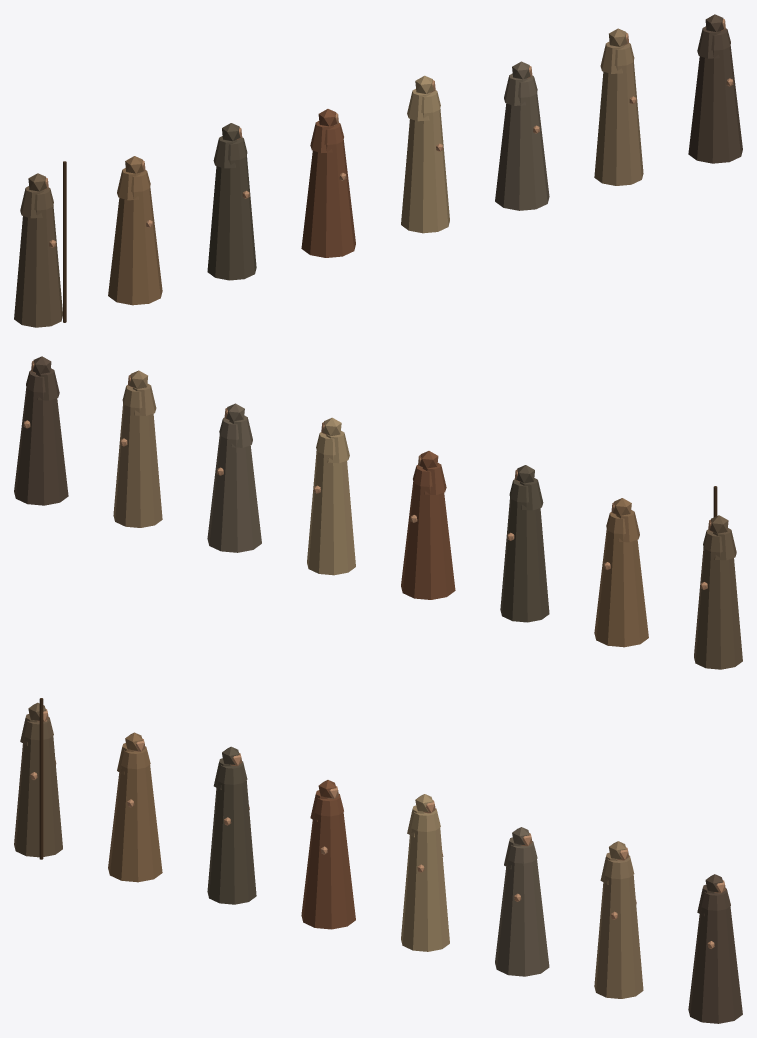
File: figures.glb
3 renders of one model, top to bottom at view 1: azimuth 30°, elevation 25°; view 2: azimuth 150°, elevation 25°; view 3: azimuth 330°, elevation 25°, orthographic.
Parts seen in each view (by area): view 1: wife_robe, japheth_wife_robe, ham_wife_robe, shem_wife_robe, shem_robe, ham_robe, japheth_robe, noah_robe, noah_staff; view 2: wife_robe, japheth_wife_robe, ham_wife_robe, shem_wife_robe, shem_robe, ham_robe, japheth_robe, noah_robe; view 3: japheth_wife_robe, ham_wife_robe, wife_robe, shem_wife_robe, ham_robe, shem_robe, japheth_robe, noah_robe, noah_staff.
Boxes of the visible parts, x1,y1,x2,y2 form: wife_robe: (108, 156, 162, 305); japheth_wife_robe: (688, 14, 742, 163); ham_wife_robe: (495, 61, 549, 210); shem_wife_robe: (301, 109, 355, 257); shem_robe: (207, 123, 256, 280); ham_robe: (401, 75, 449, 233); japheth_robe: (594, 28, 643, 185); noah_robe: (14, 173, 62, 327); noah_staff: (63, 161, 66, 322); wife_robe: (594, 498, 648, 647); japheth_wife_robe: (14, 356, 68, 505); ham_wife_robe: (207, 403, 261, 552); shem_wife_robe: (401, 451, 455, 599); shem_robe: (500, 465, 549, 622); ham_robe: (307, 417, 355, 575); japheth_robe: (113, 370, 162, 527); noah_robe: (694, 515, 742, 669); japheth_wife_robe: (688, 874, 742, 1023); ham_wife_robe: (495, 827, 549, 976); wife_robe: (108, 732, 162, 882); shem_wife_robe: (301, 780, 355, 929); ham_robe: (401, 794, 449, 951); shem_robe: (207, 746, 256, 904); japheth_robe: (594, 841, 643, 998); noah_robe: (14, 702, 62, 857); noah_staff: (39, 698, 43, 859).
Size of the model in its own units: 8.94 by 1.9 by 0.6.
